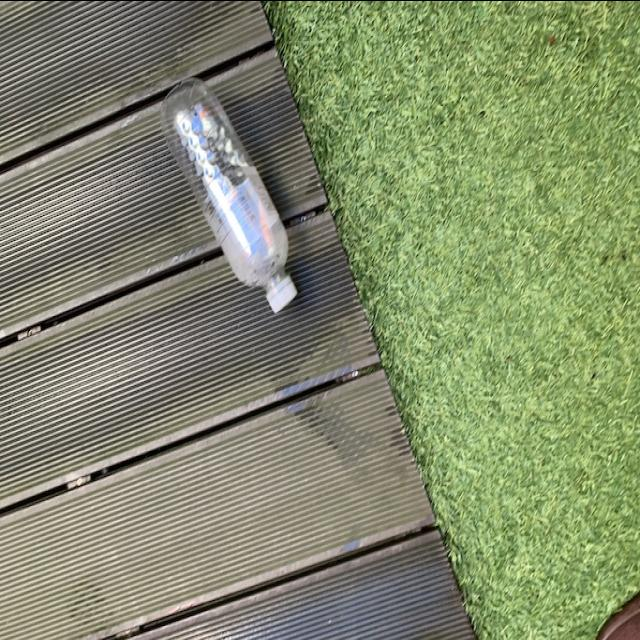litter: (159, 75, 303, 313)
